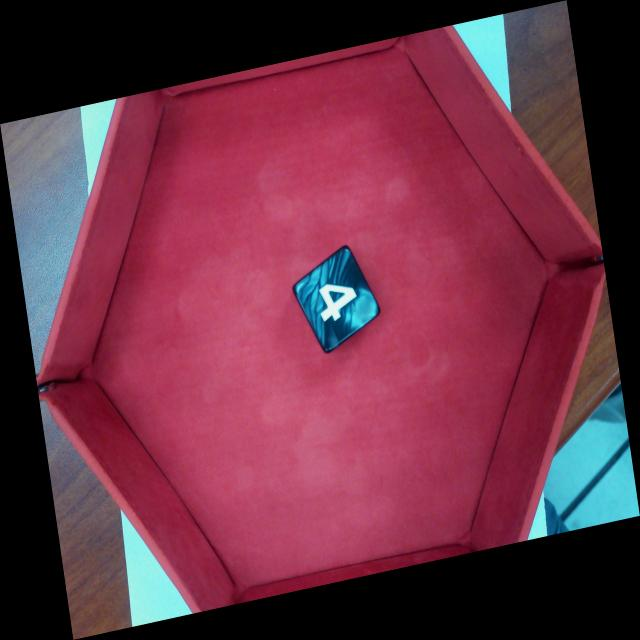dice: (290, 241, 384, 360)
